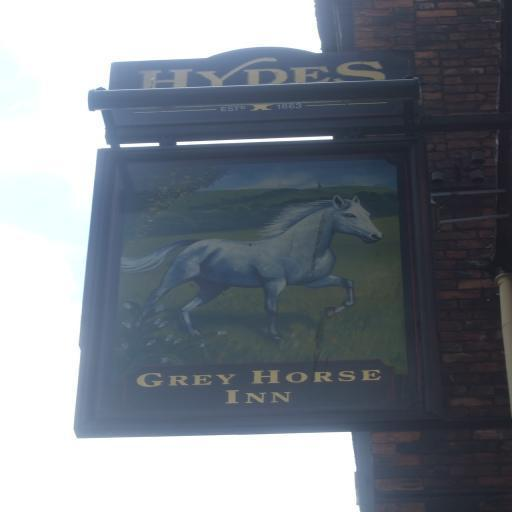horse: (116, 194, 387, 344)
